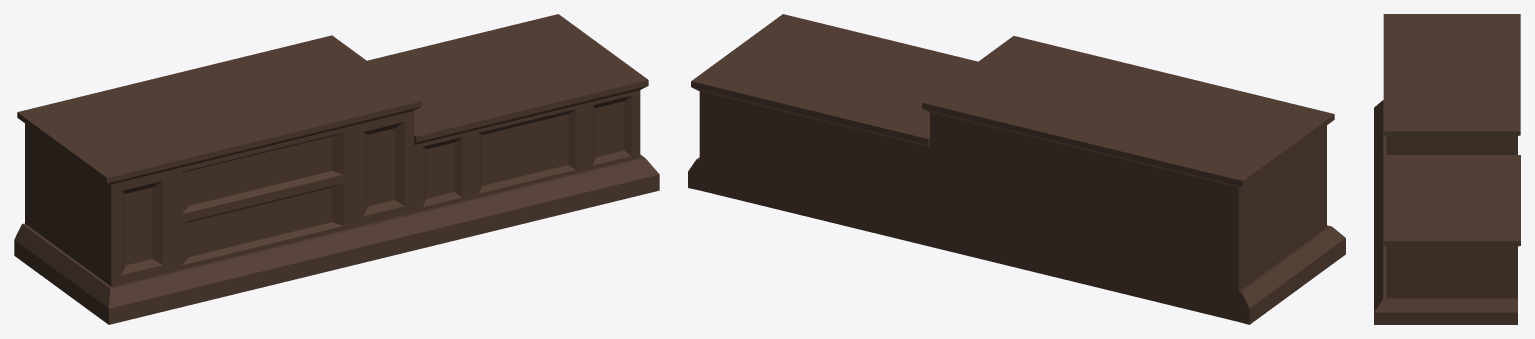
File: m_counter.fbx
The picture shows the model from 3 angles, left to right: view 1: azimuth 30°, elevation 25°; view 2: azimuth 150°, elevation 25°; view 3: azimuth 270°, elevation 25°; orthographic projection. The views are drawn at different scales.
Parts seen in each view (by area): view 1: counter.001; view 2: counter.001; view 3: counter.001.
Part boxes in pixels (<box>): counter.001: <box>14,14,659,324</box>; counter.001: <box>688,14,1345,324</box>; counter.001: <box>1374,14,1520,324</box>.
Bounding box in the file's own units: 308 × 75.36 × 93.19.
